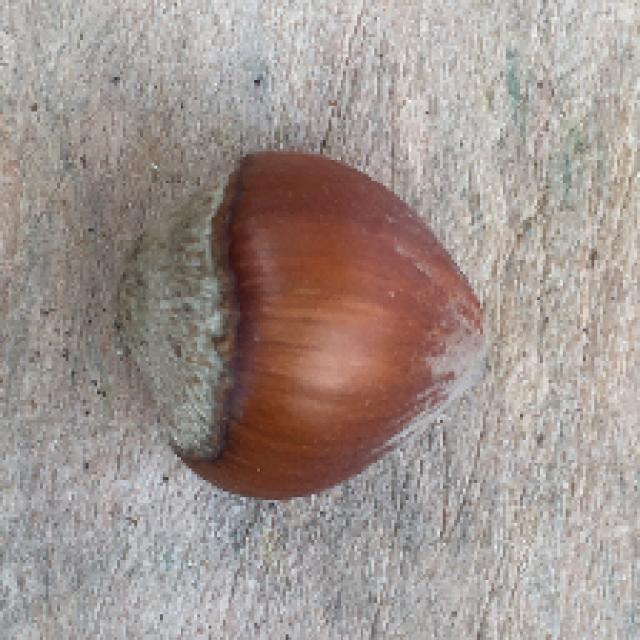qualityHazelnut: (114, 143, 488, 503)
